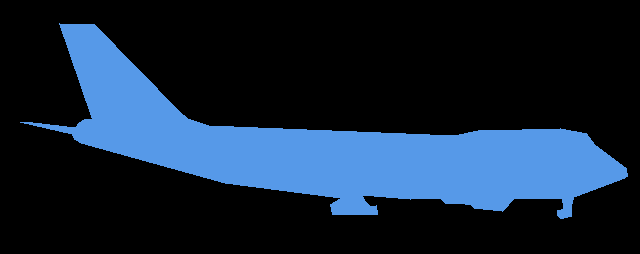Airplane: (20, 23, 627, 218)
